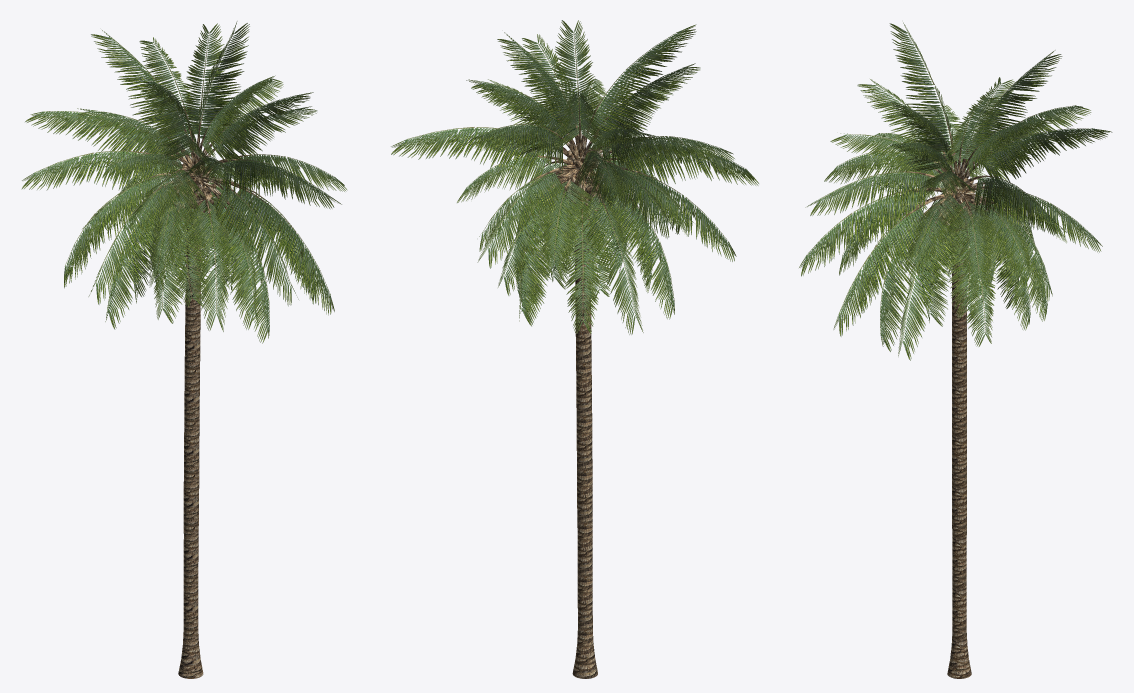
The model's file is palm_tree-transformed.glb.
3 renders of one model, left to right at view 1: azimuth 30°, elevation 25°; view 2: azimuth 150°, elevation 25°; view 3: azimuth 270°, elevation 25°, orthographic. The views are drawn at different scales.
Visible parts, largest first — view 1: Palm_1_1; view 2: Palm_1_1; view 3: Palm_1_1.
Part boxes in pixels (x1,y1,x2,y2): Palm_1_1: [21, 21, 347, 678]; Palm_1_1: [391, 20, 758, 678]; Palm_1_1: [799, 22, 1112, 678].
Bounding box in the file's own units: 6.87 × 14.57 × 6.94.
Materials: 2 (2 with a texture image).
